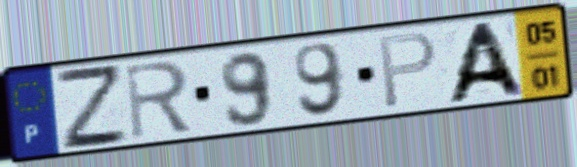9: (218, 49, 276, 128), (292, 41, 350, 119)
A: (441, 18, 530, 106)
P: (376, 29, 440, 112)
R: (121, 57, 196, 142)
Z: (52, 64, 133, 154)
